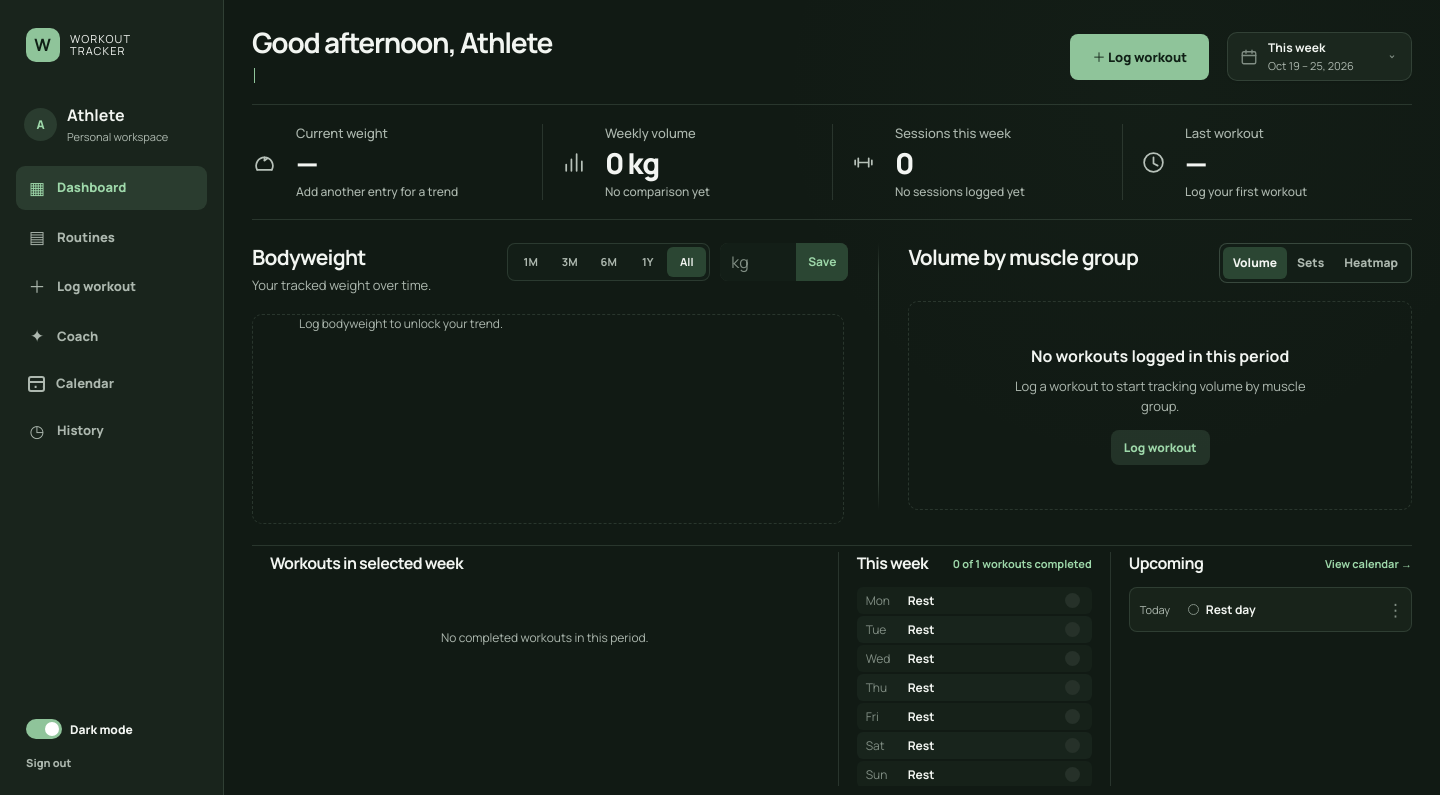
Test case: opens the chooser from desktop even when today has a planned workout
Step 1. Click the button "＋ Log workout" below "Personal workspace" → coordinates (112, 287), box [16, 265, 207, 309]
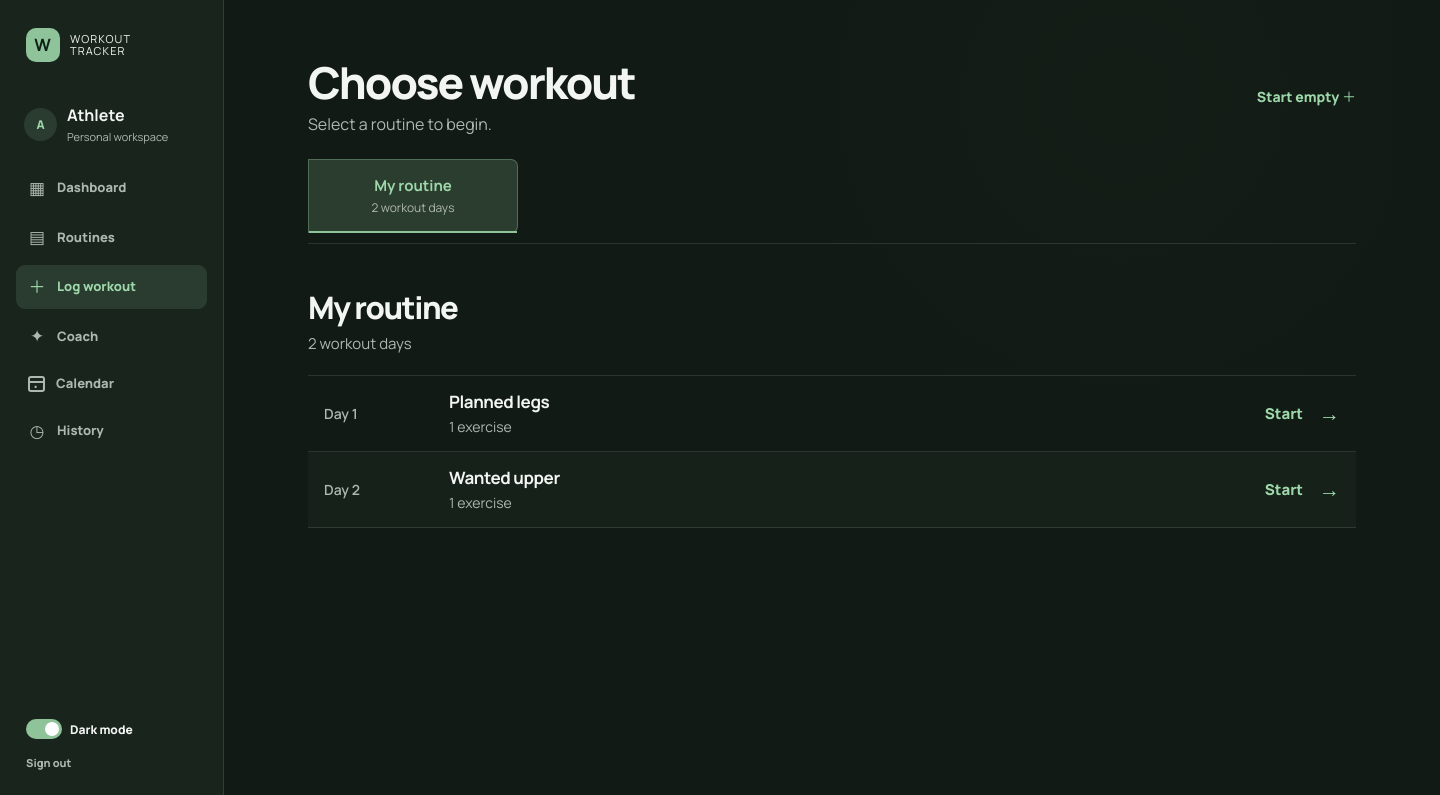
Expected: the heading "Choose workout" is shown, [308, 58, 635, 106]
Expected: the button "Day 1 Planned legs 1 exercise Start →" is shown, [308, 376, 1356, 452]
Expected: the button "Day 2 Wanted upper 1 exercise Start →" is shown
Step 2. Click the button "Day 2 Wanted upper 1 exercise Start →" → coordinates (504, 478), box [308, 452, 1356, 528]
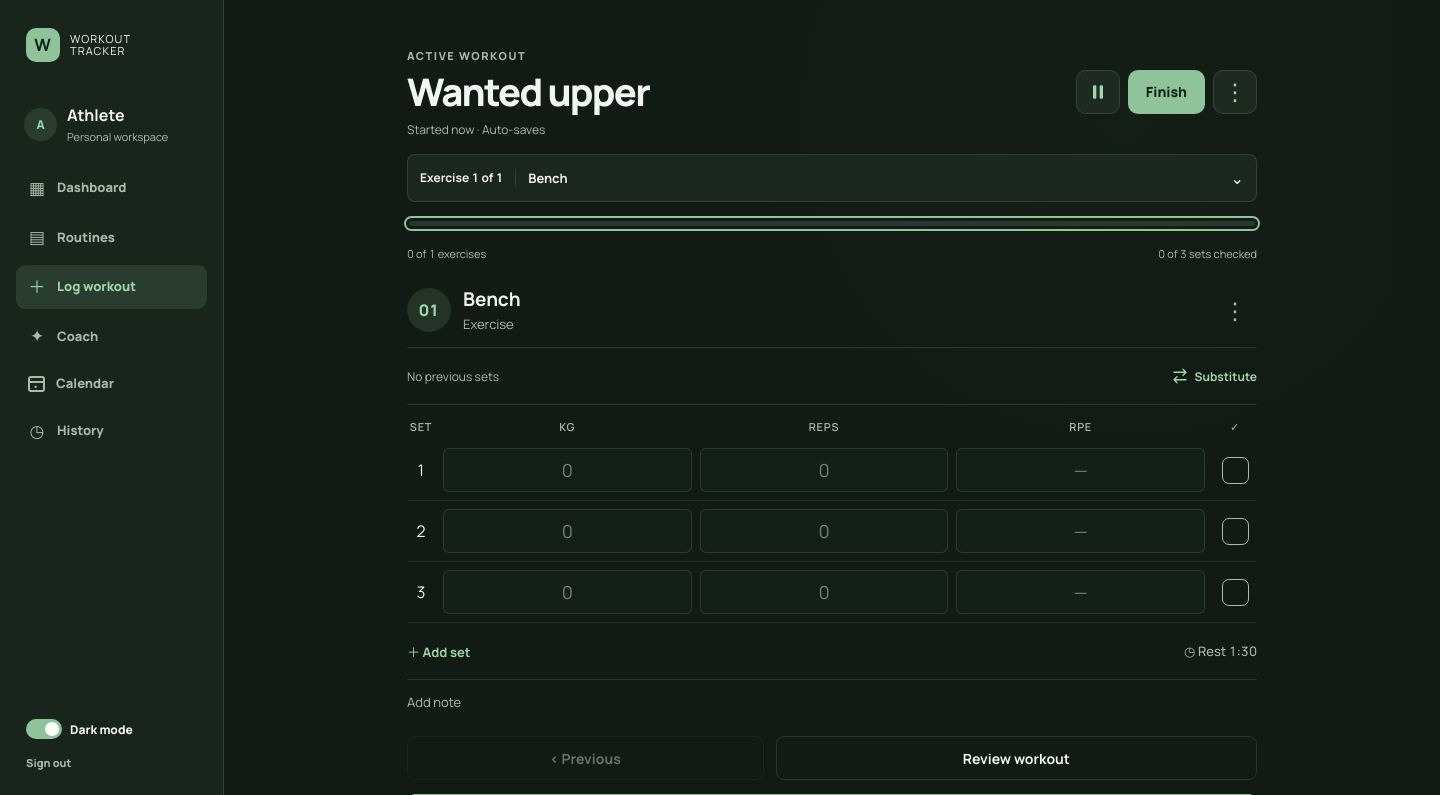
Expected: the field named "Bench set 1 weight in kg" is shown, [443, 448, 692, 492]
